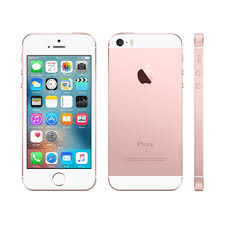iphone: (18, 29, 100, 194), (104, 29, 186, 194)
iphone5: (17, 29, 99, 194), (105, 28, 187, 193)
